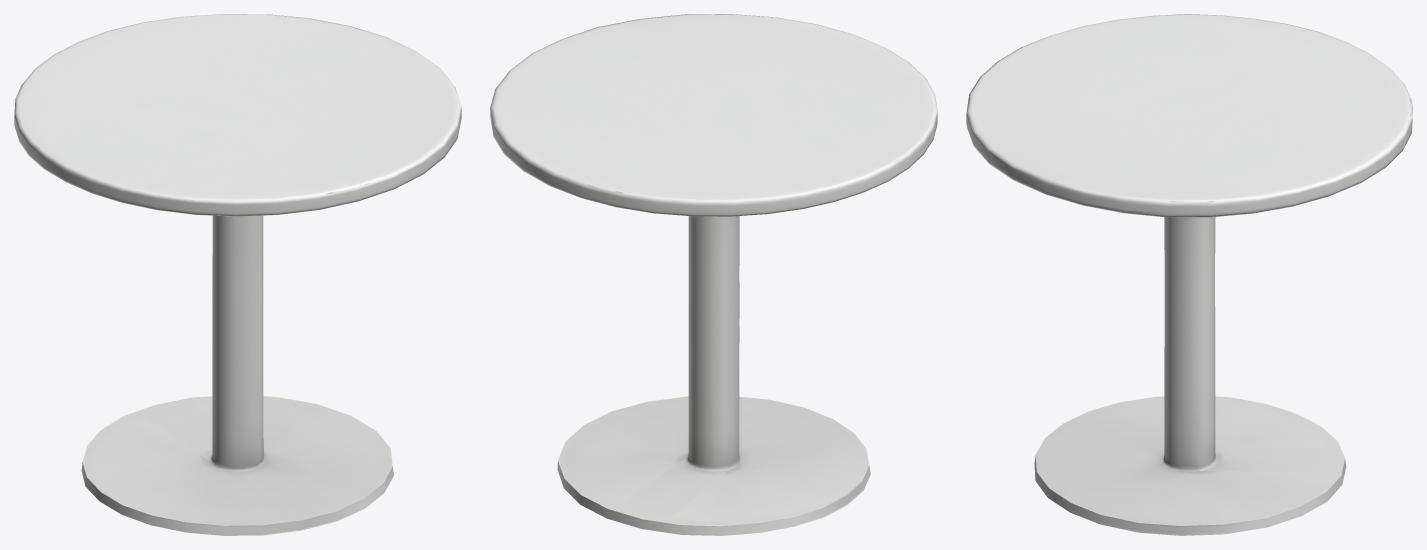
Rendered from Round_Pedestal_Table_0718081724_texture.fbx.
3 renders of one model, left to right at view 1: azimuth 30°, elevation 25°; view 2: azimuth 150°, elevation 25°; view 3: azimuth 270°, elevation 25°, orthographic.
Parts seen in each view (by area): view 1: Mesh0; view 2: Mesh0; view 3: Mesh0.
Part boxes in pixels (left/top/right/bottom): Mesh0: left=14, top=14, right=461, bottom=535; Mesh0: left=490, top=14, right=937, bottom=535; Mesh0: left=966, top=14, right=1412, bottom=535.
Size of the model in its own units: 200 by 180 by 200.
1 material, 1 textured.
